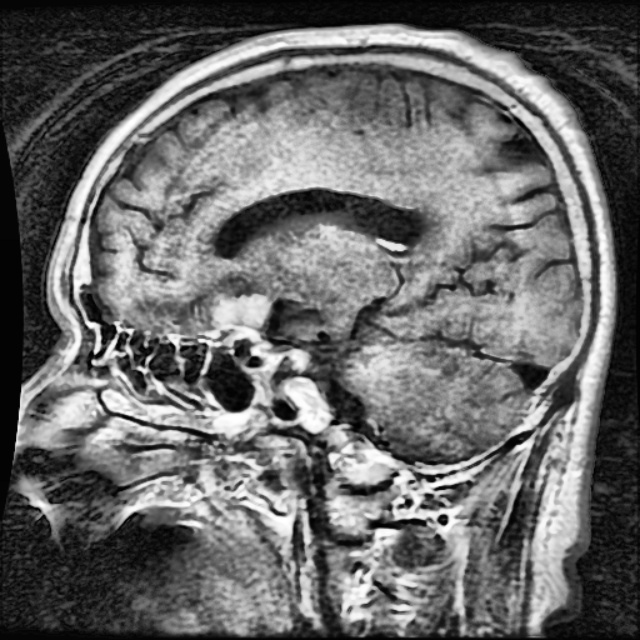Pituitary: (212, 294, 267, 329)
